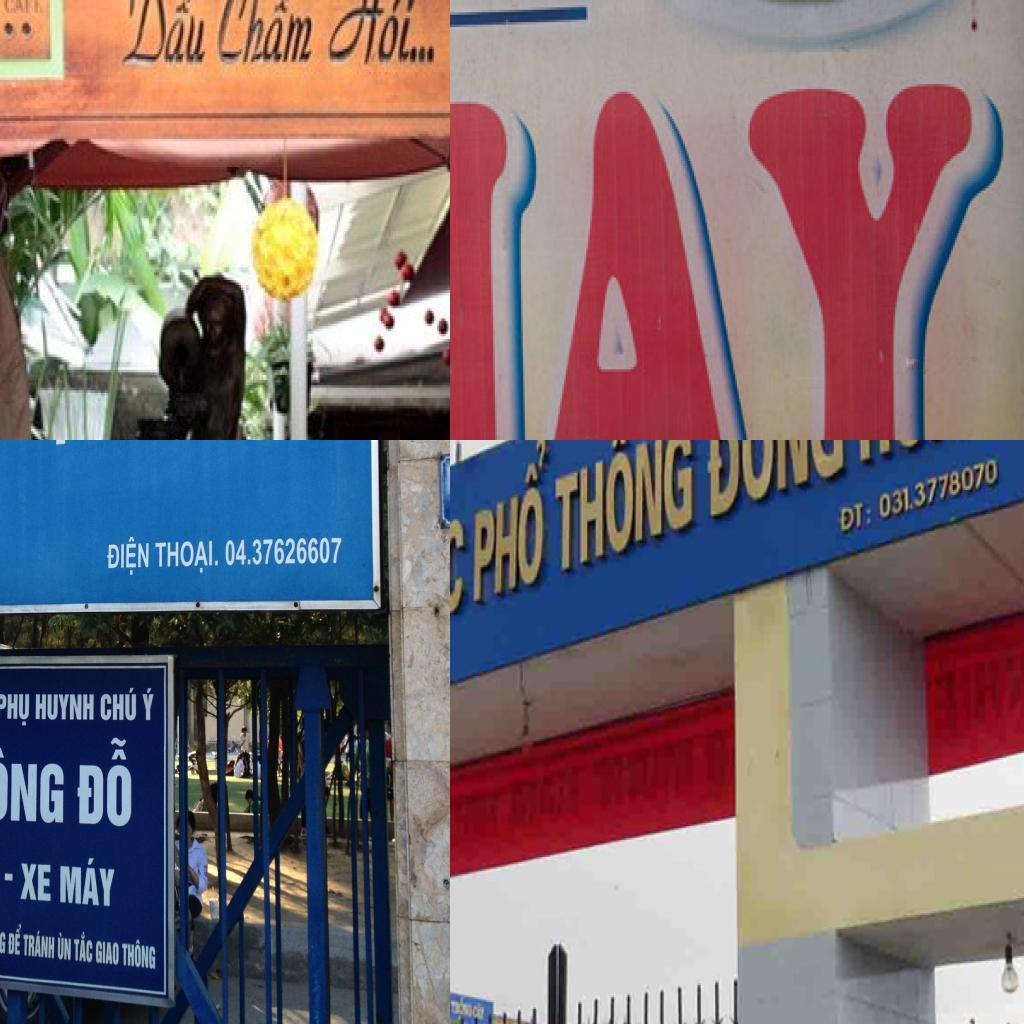text: (555, 440, 696, 580), (471, 440, 551, 613), (704, 440, 850, 525), (878, 451, 1006, 526), (324, 0, 447, 72), (213, 0, 324, 67), (118, 0, 217, 69), (75, 732, 135, 830), (0, 743, 68, 827), (58, 854, 119, 910), (450, 507, 470, 660), (155, 538, 220, 575), (105, 533, 151, 578), (33, 692, 96, 723), (839, 494, 878, 540), (19, 861, 53, 906), (99, 686, 138, 723), (120, 938, 156, 972), (22, 927, 56, 961), (0, 692, 31, 728), (0, 15, 39, 43), (2, 0, 46, 18), (72, 930, 94, 966), (95, 939, 120, 968), (141, 686, 157, 722), (7, 922, 23, 957), (451, 994, 473, 1019), (57, 929, 72, 963), (473, 1000, 487, 1021)
